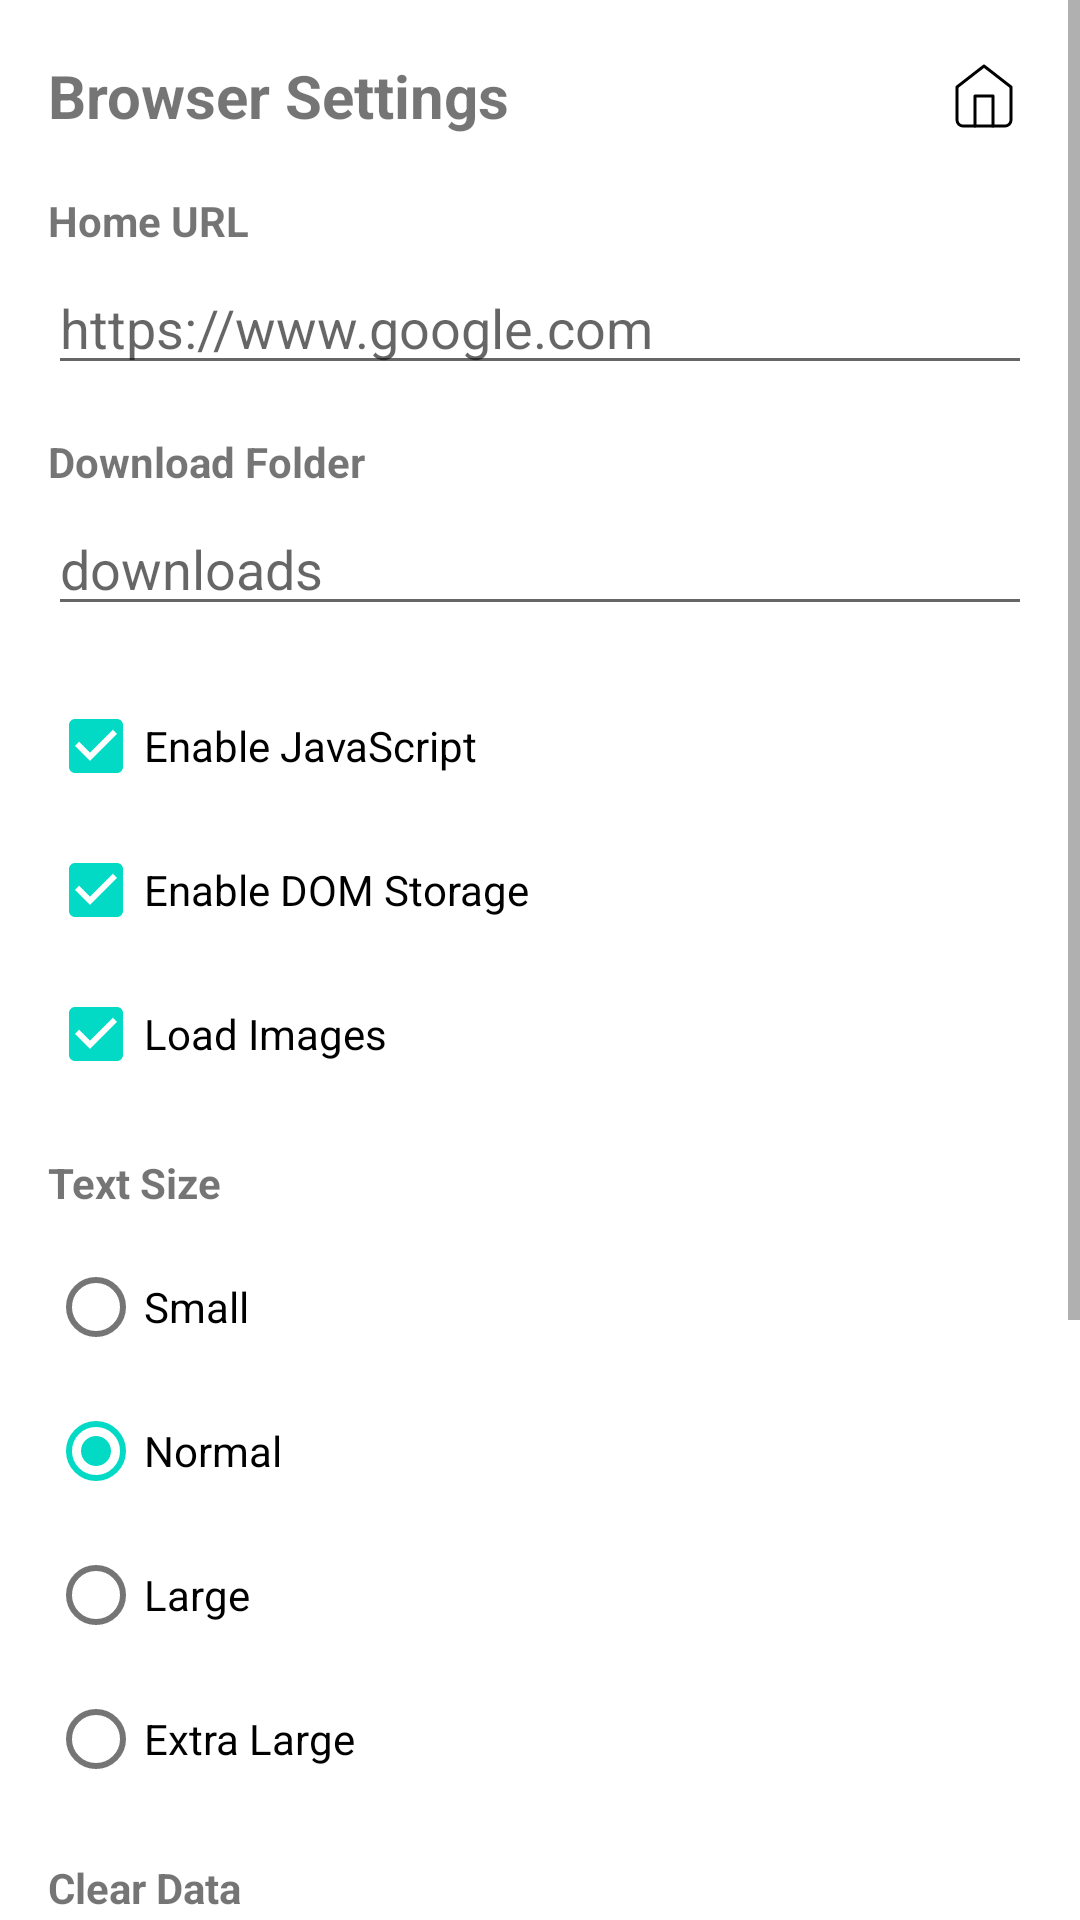

Icons on this 1080x1920 Android screen, each with its box as Rect(x1, y1, x2, y2):
Back to Launcher: Rect(955, 64, 1013, 128)
